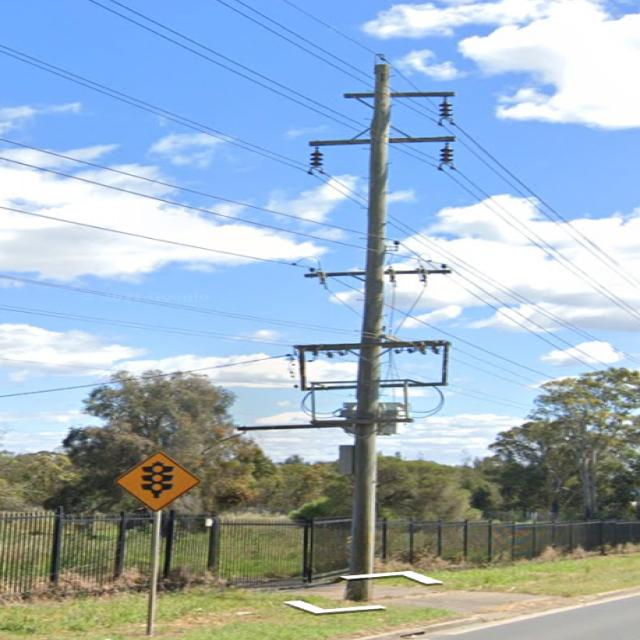HV-transmission: (307, 53, 457, 175), (304, 263, 453, 285)
crossarm: (296, 339, 448, 351), (310, 134, 453, 144), (304, 270, 451, 278), (238, 424, 352, 432), (311, 418, 414, 425), (340, 92, 453, 96)
timber-pole: (342, 65, 388, 600)
transformer: (340, 402, 410, 436)
